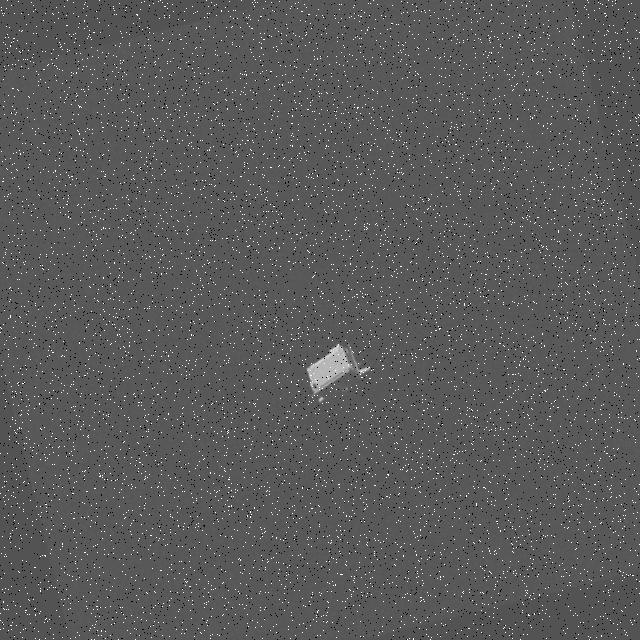satellite: (300, 334, 384, 406)
